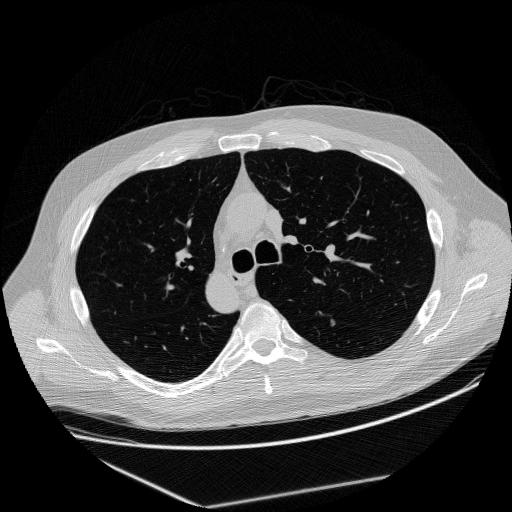nodule: (329, 317, 341, 329)
